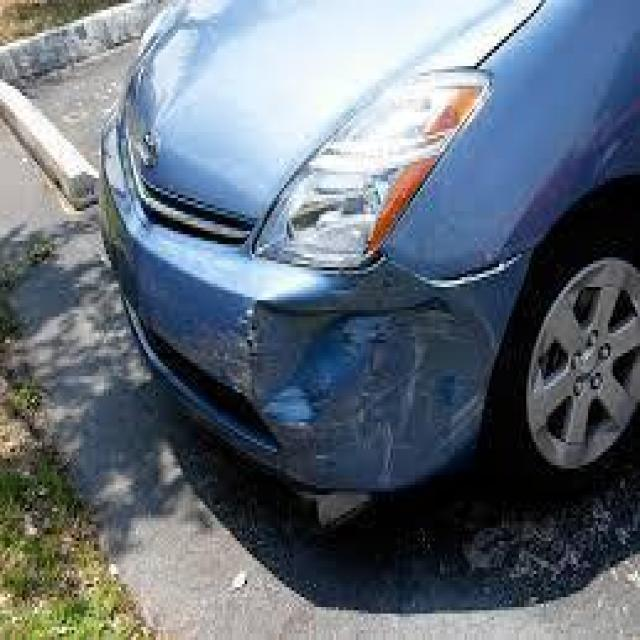damaged: (247, 254, 502, 488)
